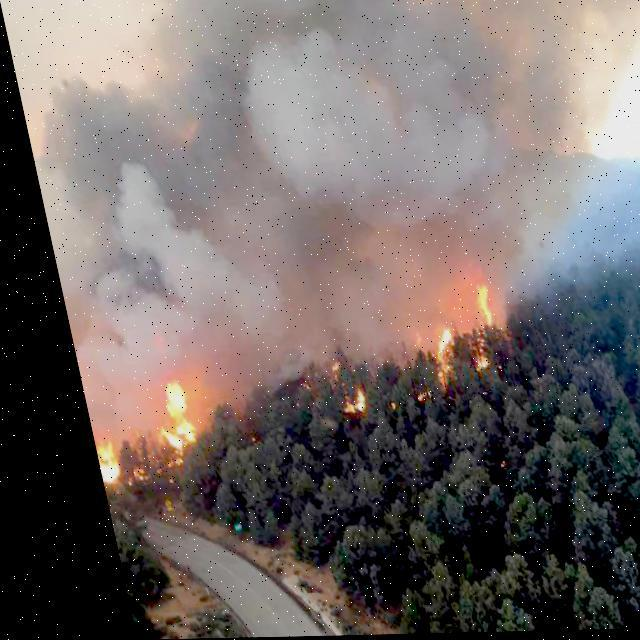Fire: (66, 382, 187, 487), (405, 282, 501, 378), (322, 391, 349, 417)
